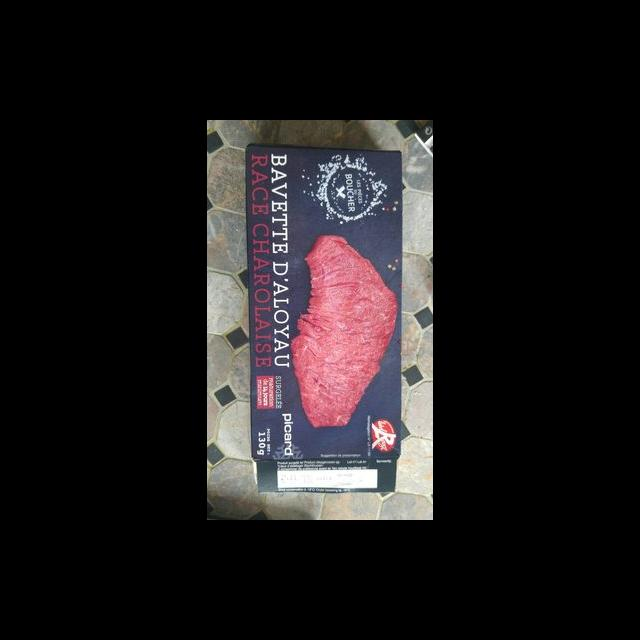beef: (246, 142, 401, 492)
